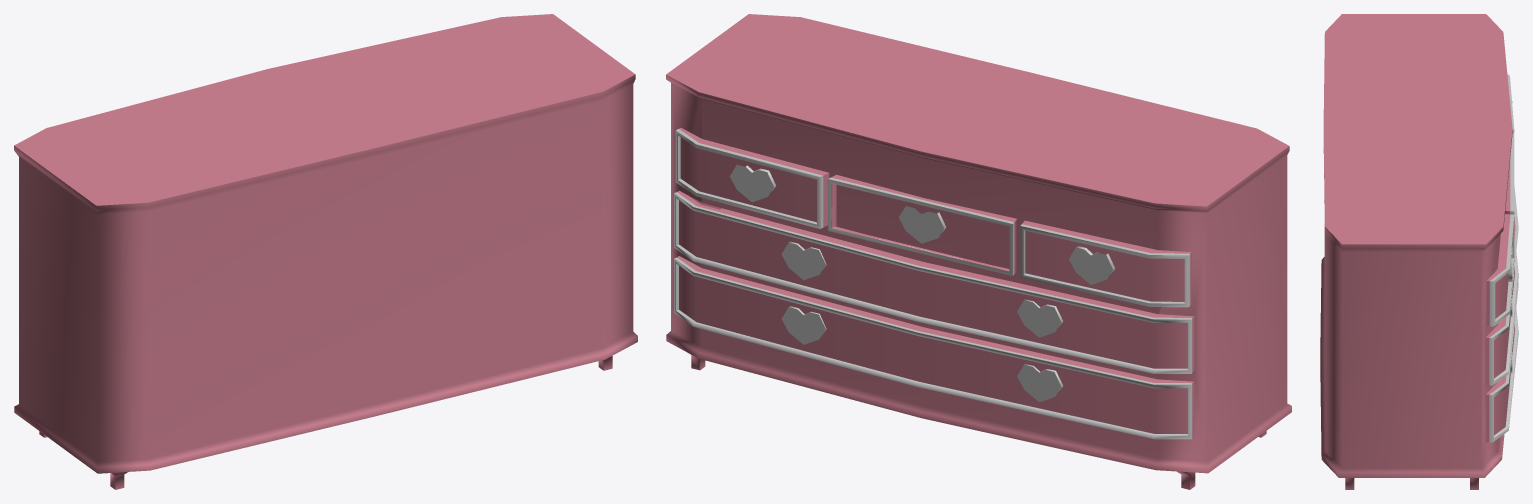
File: Anim.fbx
3 views of the same model, side by side, from view 1: azimuth 30°, elevation 25°; view 2: azimuth 150°, elevation 25°; view 3: azimuth 270°, elevation 25° (orthographic). The views are drawn at different scales.
Parts seen in each view (by area): view 1: Drawers; view 2: Drawers, Draw; view 3: Drawers, Draw.
Part boxes in pixels (x1=…): Drawers: x1=14, y1=14, x2=637, y2=489; Drawers: x1=666, y1=14, x2=1291, y2=489; Draw: x1=674, y1=190, x2=1194, y2=373; Drawers: x1=1320, y1=14, x2=1518, y2=489; Draw: x1=1485, y1=186, x2=1518, y2=385.
Size of the model in its own units: 3.69 by 1.9 by 1.34.
